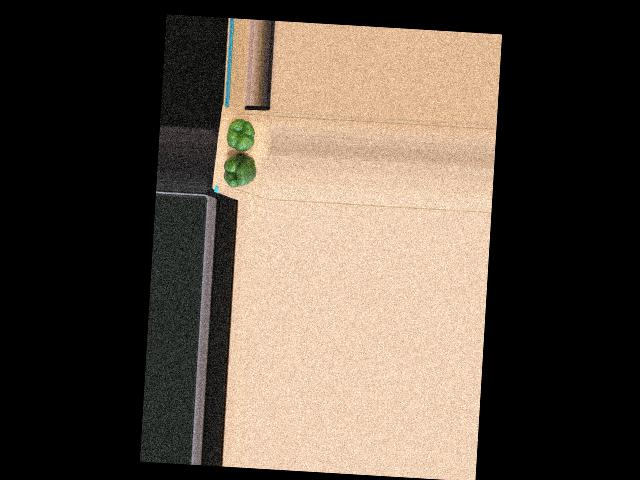bell_pepper: (225, 118, 259, 153)
